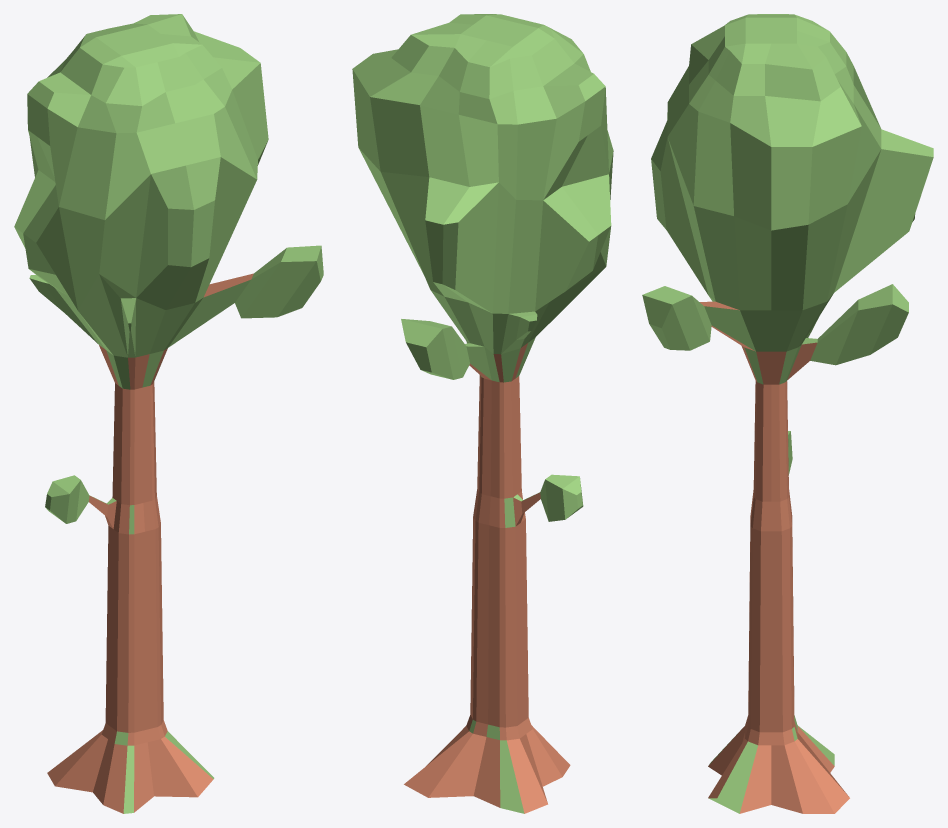
Rendered from träd1.fbx.
3 renders of one model, left to right at view 1: azimuth 30°, elevation 25°; view 2: azimuth 150°, elevation 25°; view 3: azimuth 270°, elevation 25°, orthographic.
Visible parts, largest first — view 1: Cube.001; view 2: Cube.001; view 3: Cube.001.
Part boxes in pixels (x1=…): Cube.001: x1=14, y1=14, x2=323, y2=813; Cube.001: x1=352, y1=14, x2=613, y2=813; Cube.001: x1=642, y1=14, x2=933, y2=813.
Size of the model in its own units: 237 by 693 by 244.
